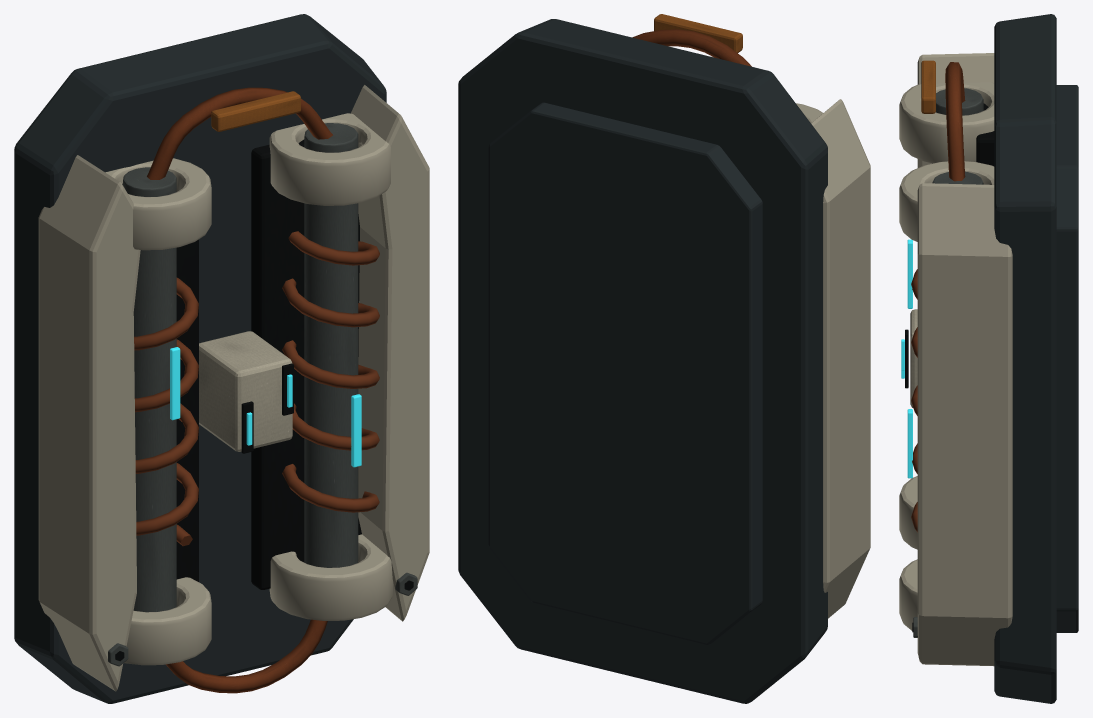
Rendered from permutation.glb.
3 renders of one model, left to right at view 1: azimuth 30°, elevation 25°; view 2: azimuth 150°, elevation 25°; view 3: azimuth 270°, elevation 25°, orthographic. The views are drawn at different scales.
Parts seen in each view (by area): view 1: ivory, steel, edge, rubber, copper, paint, cyan; view 2: steel, ivory, copper, paint; view 3: ivory, steel, copper, edge, cyan, rubber, paint.
Part boxes in pixels (<box>): ivory: <box>38,85,429,691</box>; steel: <box>14,14,386,703</box>; edge: <box>108,123,417,666</box>; rubber: <box>115,139,413,661</box>; copper: <box>134,87,379,693</box>; paint: <box>211,91,300,131</box>; cyan: <box>170,347,361,467</box>; steel: <box>458,19,827,703</box>; ivory: <box>796,99,870,618</box>; copper: <box>632,29,751,66</box>; paint: <box>654,14,742,52</box>; ivory: <box>899,53,1012,666</box>; steel: <box>994,14,1078,703</box>; copper: <box>911,62,965,532</box>; edge: <box>913,88,983,637</box>; cyan: <box>901,239,912,478</box>; rubber: <box>905,103,994,632</box>; paint: <box>921,60,935,113</box>.
Size of the model in its own units: 0.1045 by 0.1767 by 0.049.
7 materials, 6 textured.
